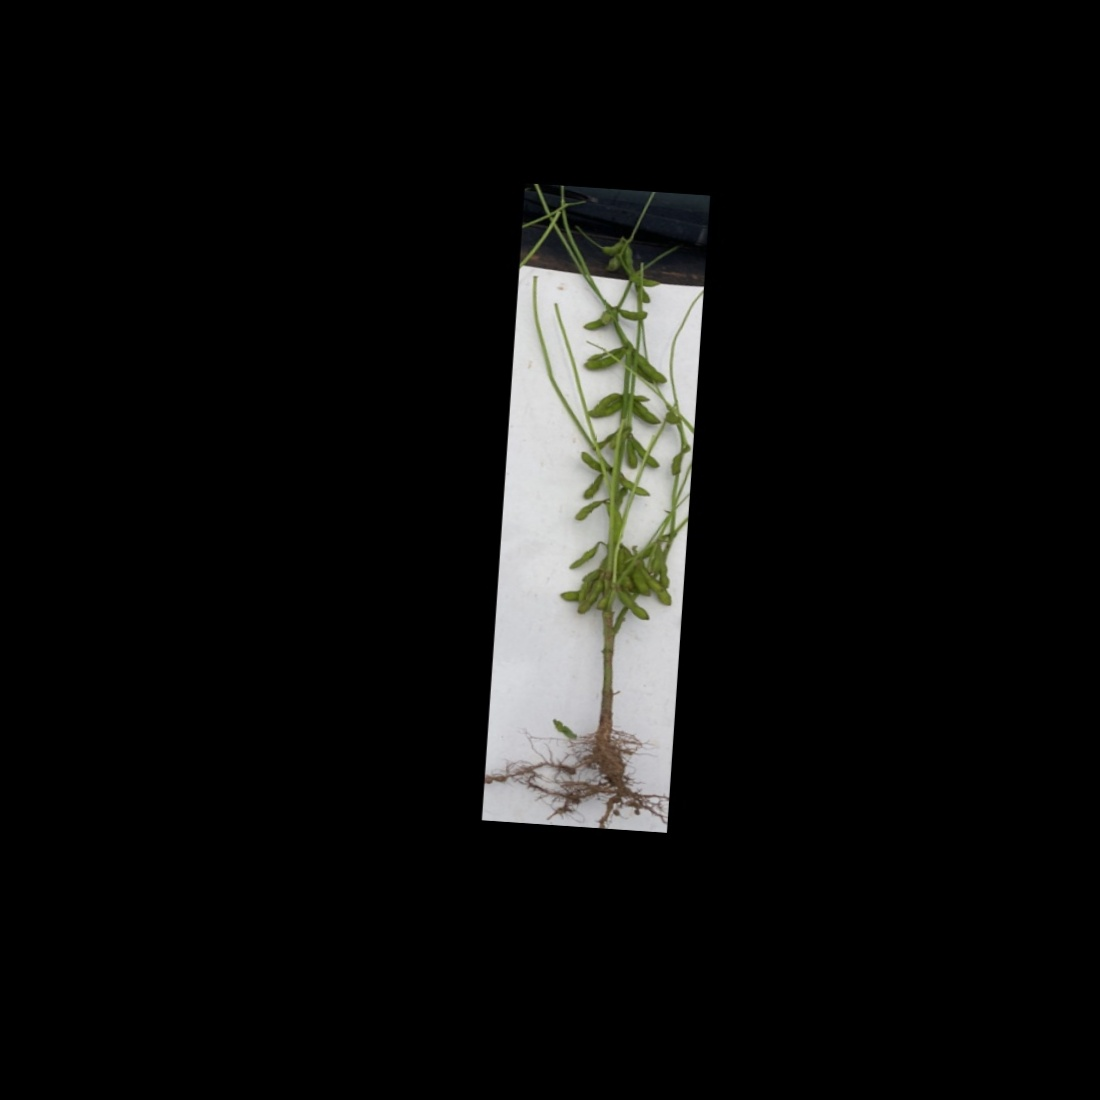pod: (631, 348, 673, 387), (611, 587, 652, 624), (565, 538, 603, 573), (572, 495, 609, 524), (628, 399, 664, 428), (615, 470, 654, 498), (579, 470, 607, 502), (590, 388, 622, 414), (624, 273, 666, 289), (610, 308, 654, 322)
soy: (516, 208, 699, 814)
